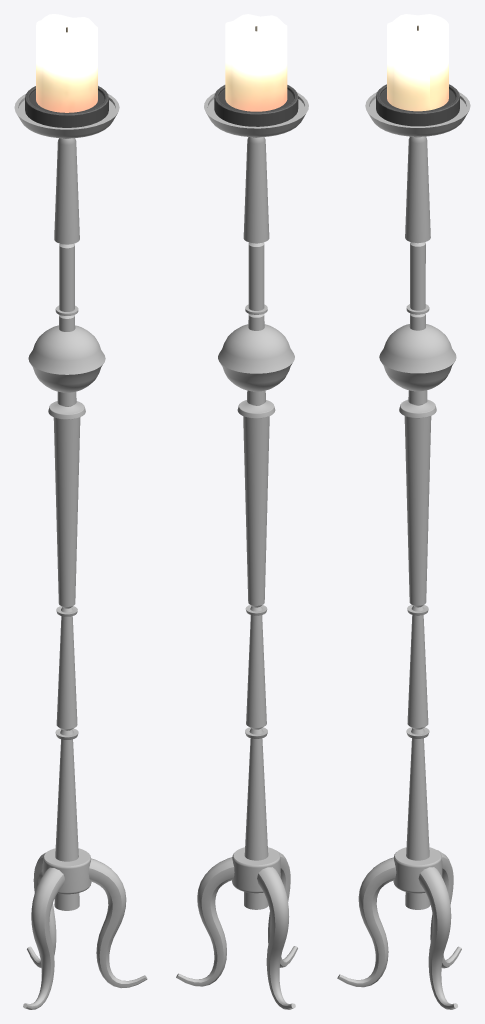
The model's file is SM_CandleonHolder.fbx.
3 views of the same model, side by side, from view 1: azimuth 90°, elevation 25°; view 2: azimuth 150°, elevation 25°; view 3: azimuth 270°, elevation 25° (orthographic).
Visible parts, largest first — view 1: SM_CandleonHolder_LOD0; view 2: SM_CandleonHolder_LOD0; view 3: SM_CandleonHolder_LOD0.
Part boxes in pixels (x1,y1,x2,y2): SM_CandleonHolder_LOD0: [14, 14, 147, 1009]; SM_CandleonHolder_LOD0: [176, 14, 308, 1009]; SM_CandleonHolder_LOD0: [337, 14, 470, 1009].
Size of the model in its own units: 23.61 by 22.48 by 179.
